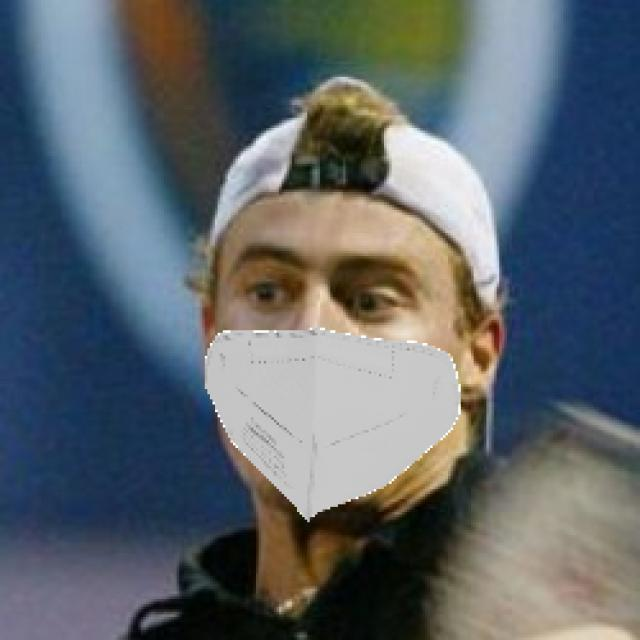kn95: (206, 210, 468, 516)
